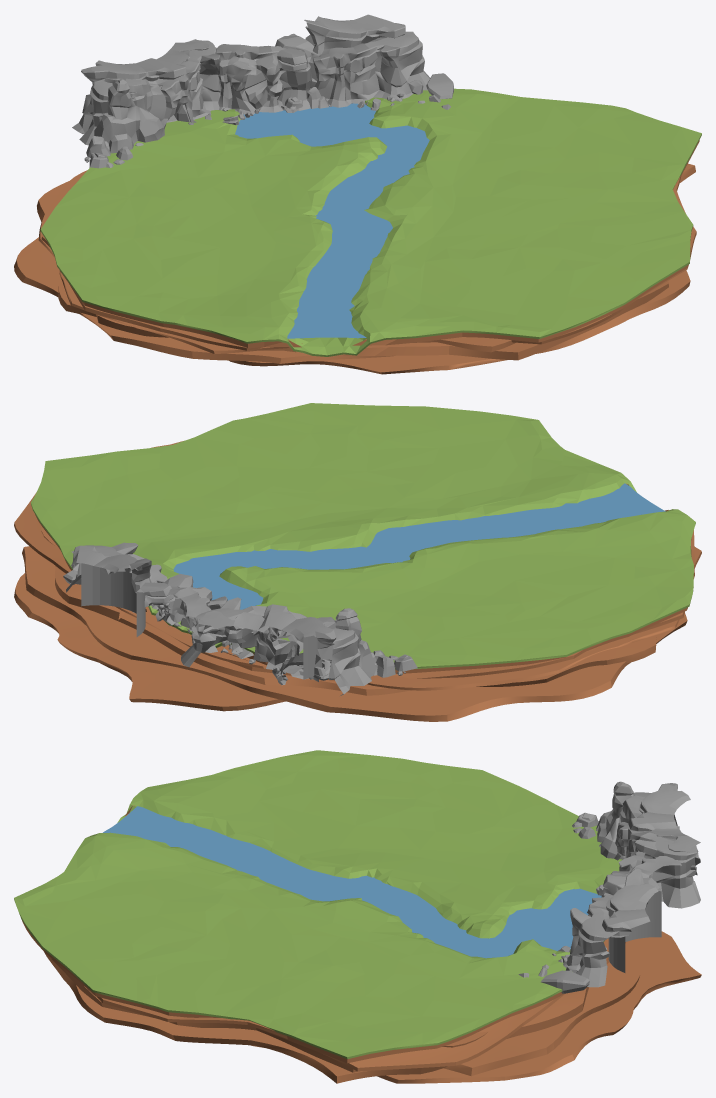
Rendered from Terrain_00.FBX.
3 renders of one model, top to bottom at view 1: azimuth 30°, elevation 25°; view 2: azimuth 150°, elevation 25°; view 3: azimuth 270°, elevation 25°, orthographic.
Visible parts, largest first — view 1: Grass, Cliff, Water, GroundLayer_05, GroundLayer_02, GroundLayer_06, GroundLayer_00, GroundLayer_04, GroundLayer_03, GroundLayer_01; view 2: Grass, Cliff, GroundLayer_05, Water, GroundLayer_06, GroundLayer_04, GroundLayer_03, GroundLayer_01, GroundLayer_02, GroundLayer_00; view 3: Grass, Cliff, Water, GroundLayer_06, GroundLayer_03, GroundLayer_05, GroundLayer_01, GroundLayer_02, GroundLayer_00.
Boxes of the visible parts, x1,y1,x2,y2 form: Grass: (40, 88, 701, 356); Cliff: (72, 14, 453, 168); Water: (235, 103, 429, 338); GroundLayer_05: (14, 181, 395, 363); GroundLayer_02: (96, 281, 668, 360); GroundLayer_06: (229, 354, 506, 374); GroundLayer_00: (60, 140, 699, 348); GroundLayer_04: (38, 170, 515, 353); GroundLayer_03: (58, 163, 695, 353); GroundLayer_01: (41, 174, 696, 350); Grass: (31, 403, 695, 669); Cliff: (63, 542, 417, 695); GroundLayer_05: (22, 546, 687, 721); Water: (173, 483, 665, 609); GroundLayer_06: (14, 573, 285, 711); GroundLayer_04: (41, 526, 701, 690); GroundLayer_03: (99, 612, 656, 695); GroundLayer_01: (14, 441, 694, 678); GroundLayer_02: (55, 566, 334, 680); GroundLayer_00: (35, 483, 687, 673); Grass: (14, 750, 622, 1059); Cliff: (518, 781, 700, 993); Water: (103, 806, 601, 958); GroundLayer_06: (251, 931, 701, 1083); GroundLayer_03: (44, 942, 625, 1083); GroundLayer_05: (444, 939, 640, 1076); GroundLayer_01: (22, 920, 564, 1071); GroundLayer_02: (51, 958, 588, 1072); GroundLayer_00: (23, 805, 564, 1063).
Bounding box in the file's own units: 1077 × 192 × 1017.
